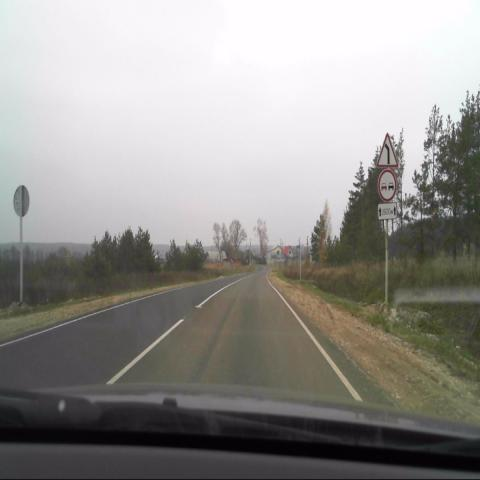1_11_1: (376, 132, 398, 169)
